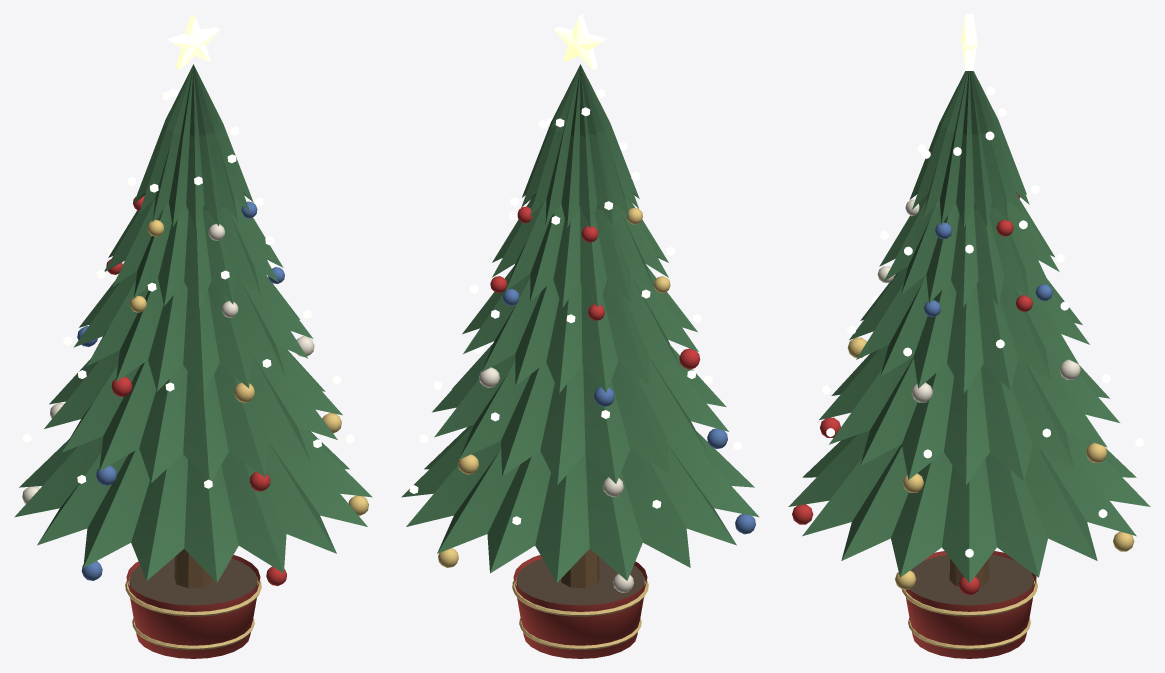
The model's file is tree.glb.
The picture shows the model from 3 angles, left to right: view 1: azimuth 30°, elevation 25°; view 2: azimuth 150°, elevation 25°; view 3: azimuth 270°, elevation 25°; orthographic projection.
Visible parts, largest first — view 1: Tree_Foliage, Tree_Stand, Tree_Soil, Tree_Star, Tree_Trunk, Tree_Hoop.001, Tree_Hoop; view 2: Tree_Foliage, Tree_Stand, Tree_Soil, Tree_Star, Tree_Trunk, Tree_Hoop.001, Tree_Hoop; view 3: Tree_Foliage, Tree_Stand, Tree_Soil, Tree_Hoop.001, Tree_Star, Tree_Hoop.
Part boxes in pixels (x1=…): Tree_Foliage: x1=14, y1=64, x2=372, y2=582; Tree_Stand: x1=126, y1=555, x2=260, y2=658; Tree_Soil: x1=129, y1=557, x2=257, y2=605; Tree_Star: x1=167, y1=14, x2=219, y2=69; Tree_Trunk: x1=174, y1=549, x2=212, y2=588; Tree_Hoop.001: x1=125, y1=577, x2=261, y2=616; Tree_Hoop: x1=132, y1=618, x2=254, y2=650; Tree_Foliage: x1=401, y1=64, x2=759, y2=582; Tree_Stand: x1=513, y1=555, x2=647, y2=658; Tree_Soil: x1=516, y1=557, x2=644, y2=605; Tree_Star: x1=554, y1=14, x2=606, y2=69; Tree_Trunk: x1=561, y1=549, x2=599, y2=588; Tree_Hoop.001: x1=512, y1=577, x2=648, y2=616; Tree_Hoop: x1=519, y1=618, x2=641, y2=650; Tree_Foliage: x1=788, y1=71, x2=1150, y2=583; Tree_Stand: x1=905, y1=551, x2=1036, y2=658; Tree_Soil: x1=909, y1=554, x2=1033, y2=605; Tree_Hoop.001: x1=902, y1=578, x2=1037, y2=616; Tree_Star: x1=961, y1=14, x2=977, y2=70; Tree_Hoop: x1=908, y1=618, x2=1030, y2=650.
Bounding box in the file's own units: 0.5467 × 1.02 × 0.54.
